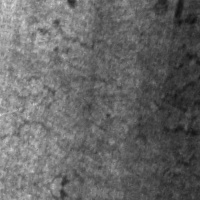crazing: (0, 10, 121, 148), (131, 37, 199, 169)
